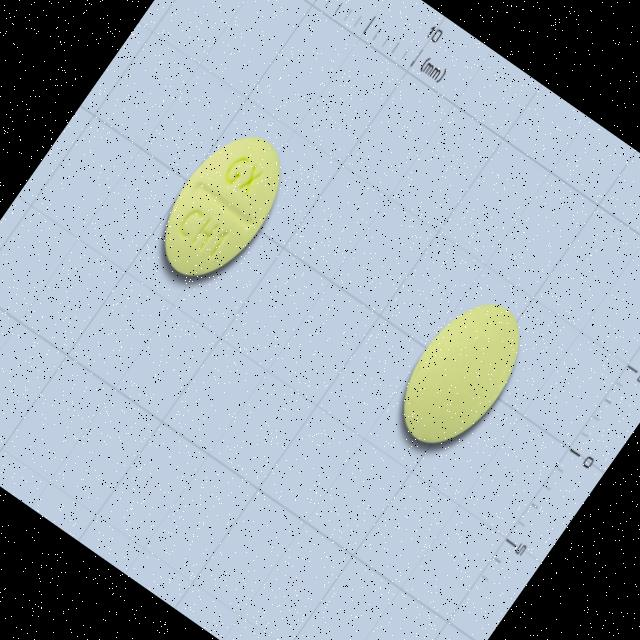Imuran: (380, 283, 544, 465), (140, 115, 304, 296)
